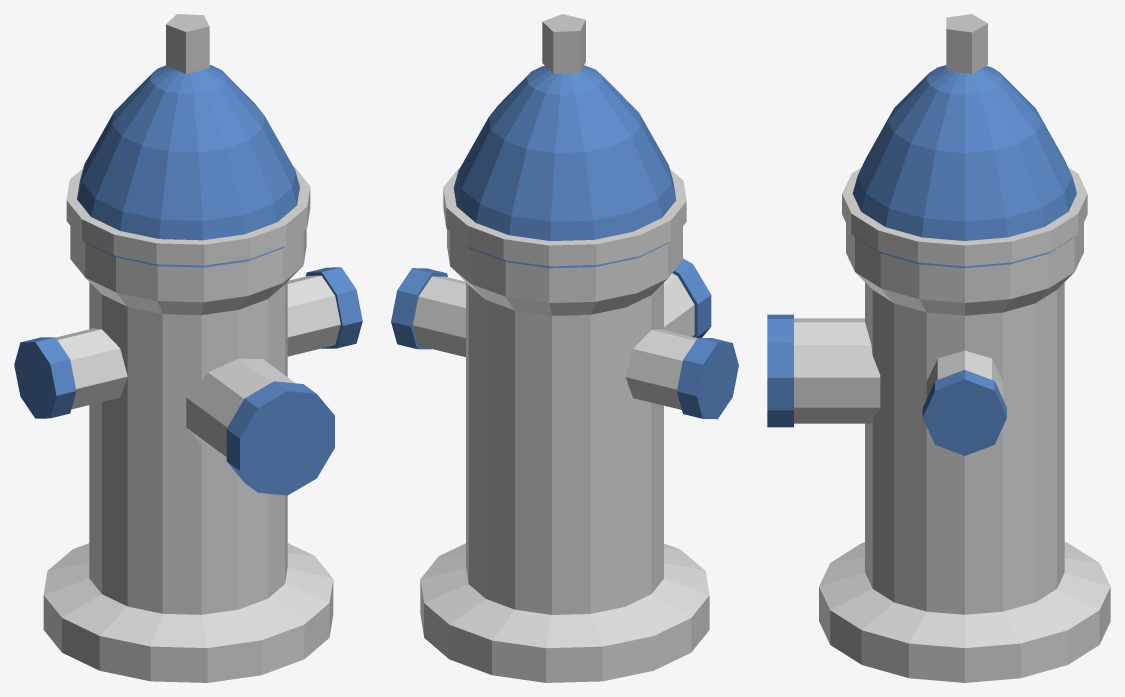
The model's file is hydrant_sf.glb.
3 views of the same model, side by side, from view 1: azimuth 30°, elevation 25°; view 2: azimuth 150°, elevation 25°; view 3: azimuth 270°, elevation 25° (orthographic).
Visible parts, largest first — view 1: hydrant_sf; view 2: hydrant_sf; view 3: hydrant_sf.
Part boxes in pixels (<box>): hydrant_sf: <box>14,14,362,682</box>; hydrant_sf: <box>391,14,738,682</box>; hydrant_sf: <box>767,14,1110,682</box>.
Size of the model in its own units: 0.46 by 0.86 by 0.4475.
